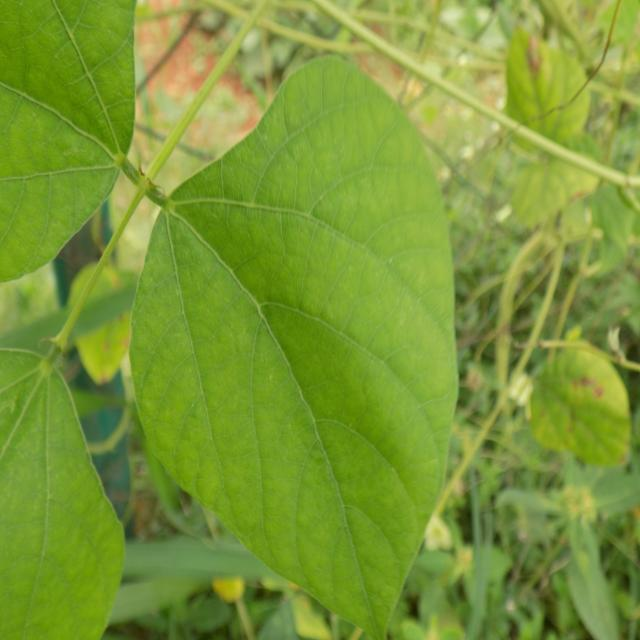Dolicos bean_healthy: (125, 51, 454, 640)
